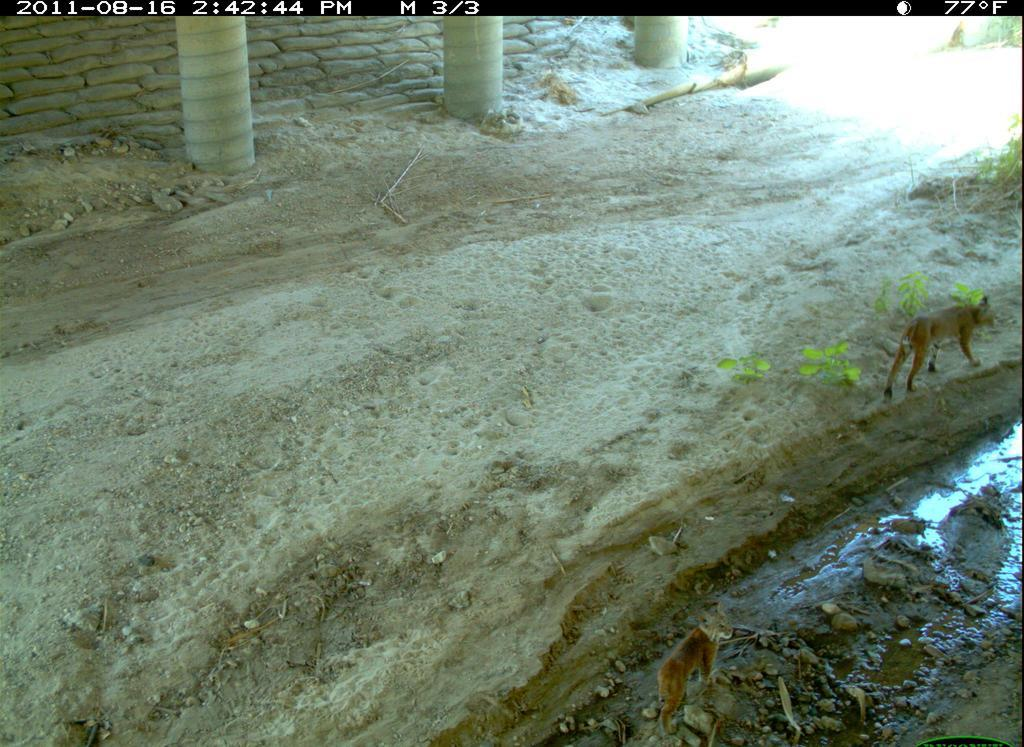bobcat: (879, 294, 1007, 408), (656, 600, 735, 738)
